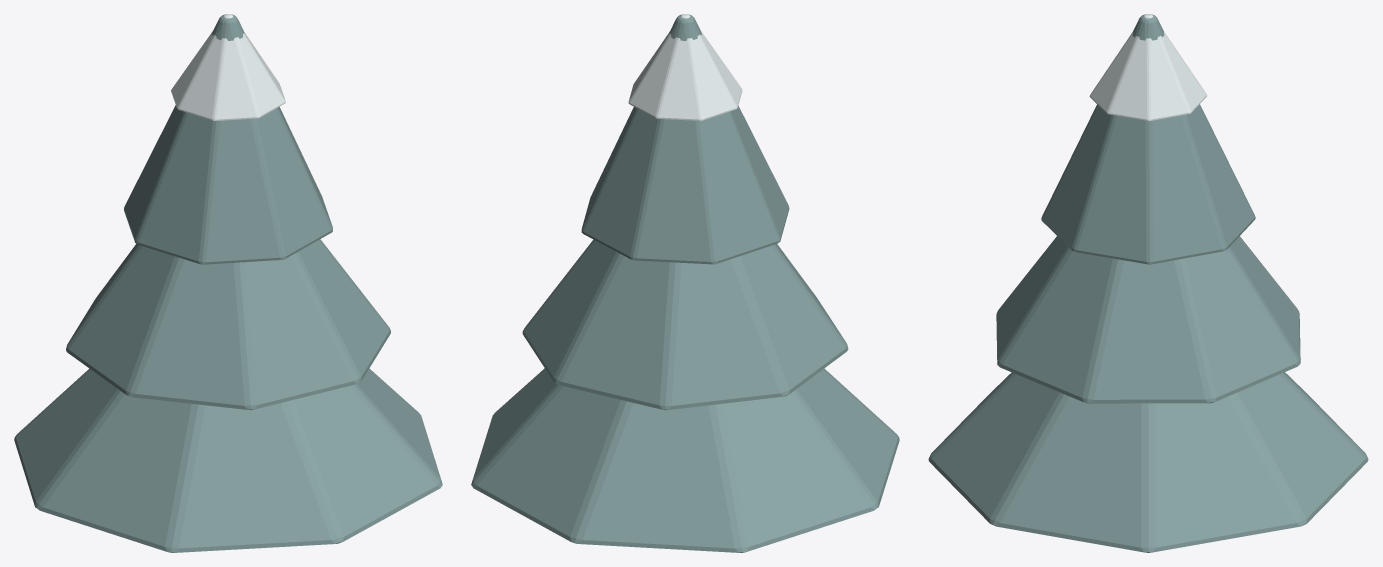
The model's file is pine.glb.
3 views of the same model, side by side, from view 1: azimuth 30°, elevation 25°; view 2: azimuth 150°, elevation 25°; view 3: azimuth 270°, elevation 25° (orthographic).
Visible parts, largest first — view 1: Surface_PineNeedle, Surface_Snow; view 2: Surface_PineNeedle, Surface_Snow; view 3: Surface_PineNeedle, Surface_Snow.
Boxes of the visible parts, <box> form: Surface_PineNeedle: <box>14,14,442,552</box>; Surface_Snow: <box>171,14,285,120</box>; Surface_PineNeedle: <box>471,14,899,552</box>; Surface_Snow: <box>628,14,742,120</box>; Surface_PineNeedle: <box>928,14,1368,552</box>; Surface_Snow: <box>1089,14,1207,121</box>.
Bounding box in the file's own units: 2.05 × 2.52 × 2.05.
